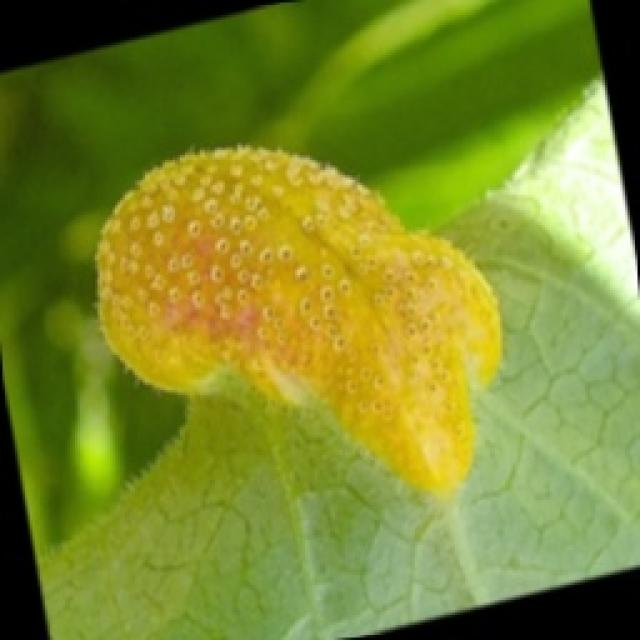Elderberry_rust: (61, 102, 522, 504)
